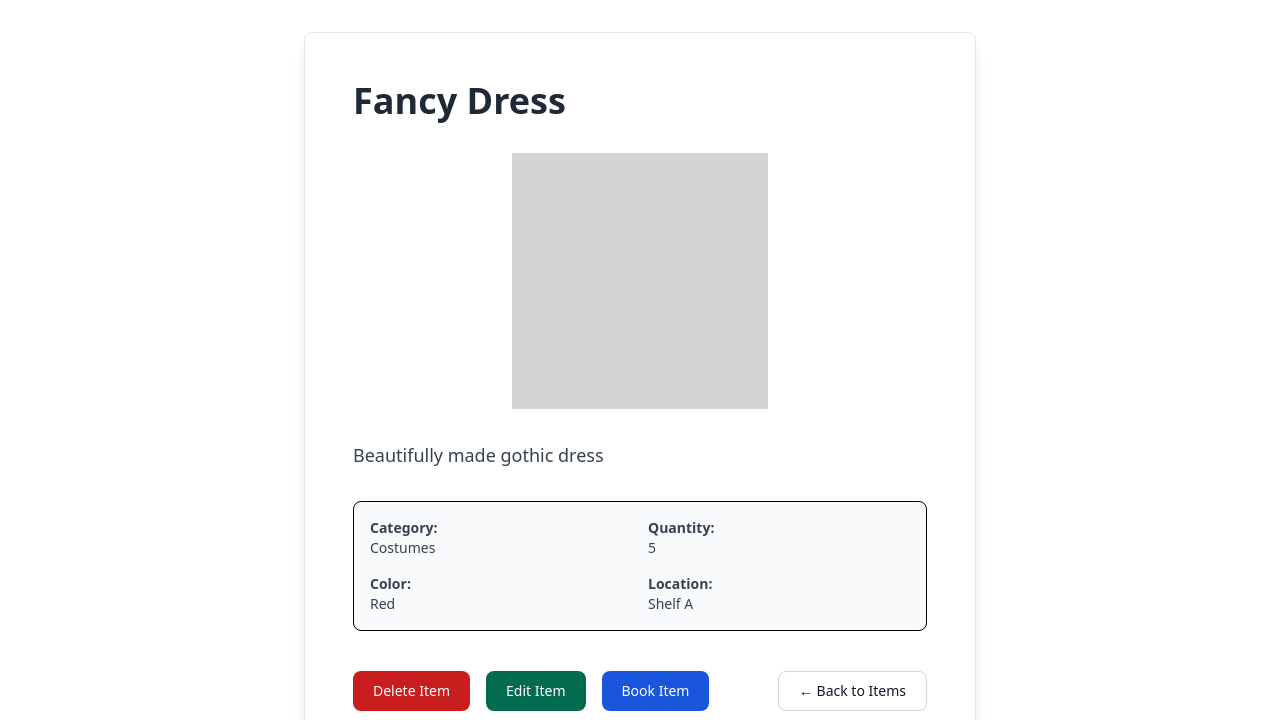
Test: ItemDetail Page › closes delete modal when cancel is clicked
Expected: the heading "Fancy Dress" is shown, left=353, top=76, right=566, bottom=125
Open modal
Step 1. Click the button "Delete Item" → (412, 691), box left=353, top=671, right=470, bottom=711
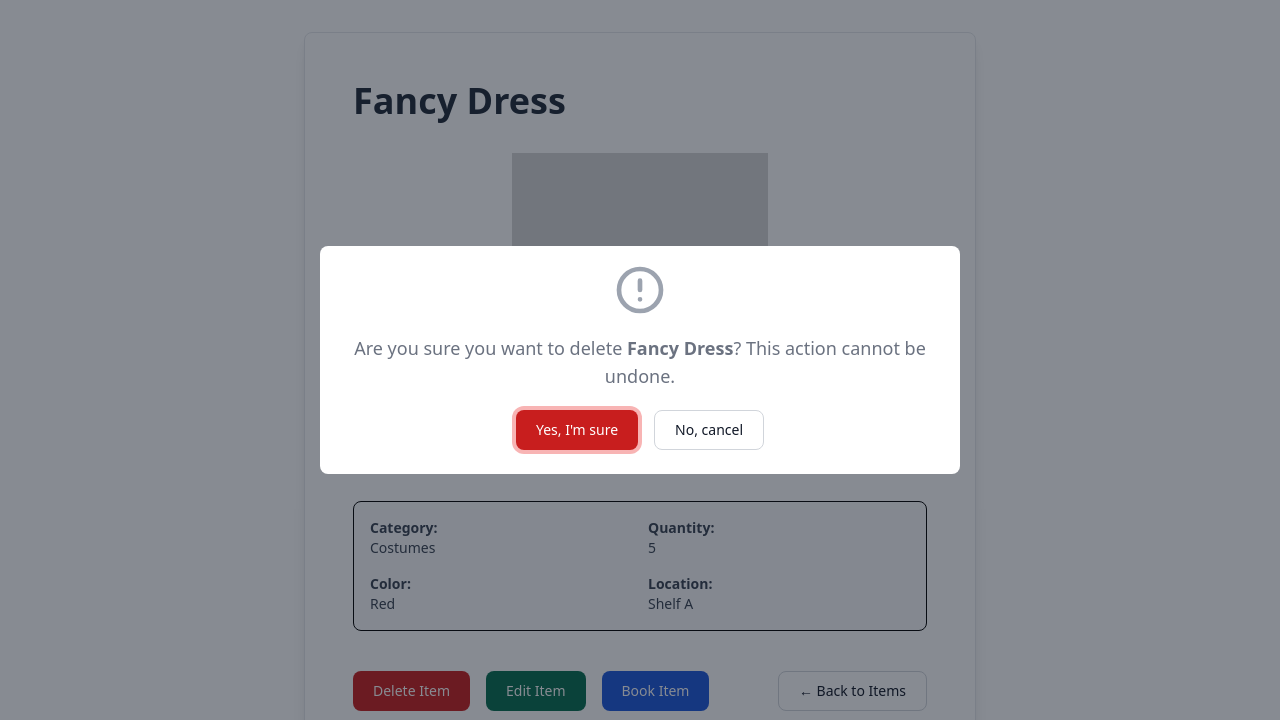
Expected: the heading "Are you sure you want to delete" is shown, left=354, top=336, right=627, bottom=360
Close modal
Step 2. Click the button "No, cancel" → (709, 430), box left=654, top=410, right=764, bottom=450
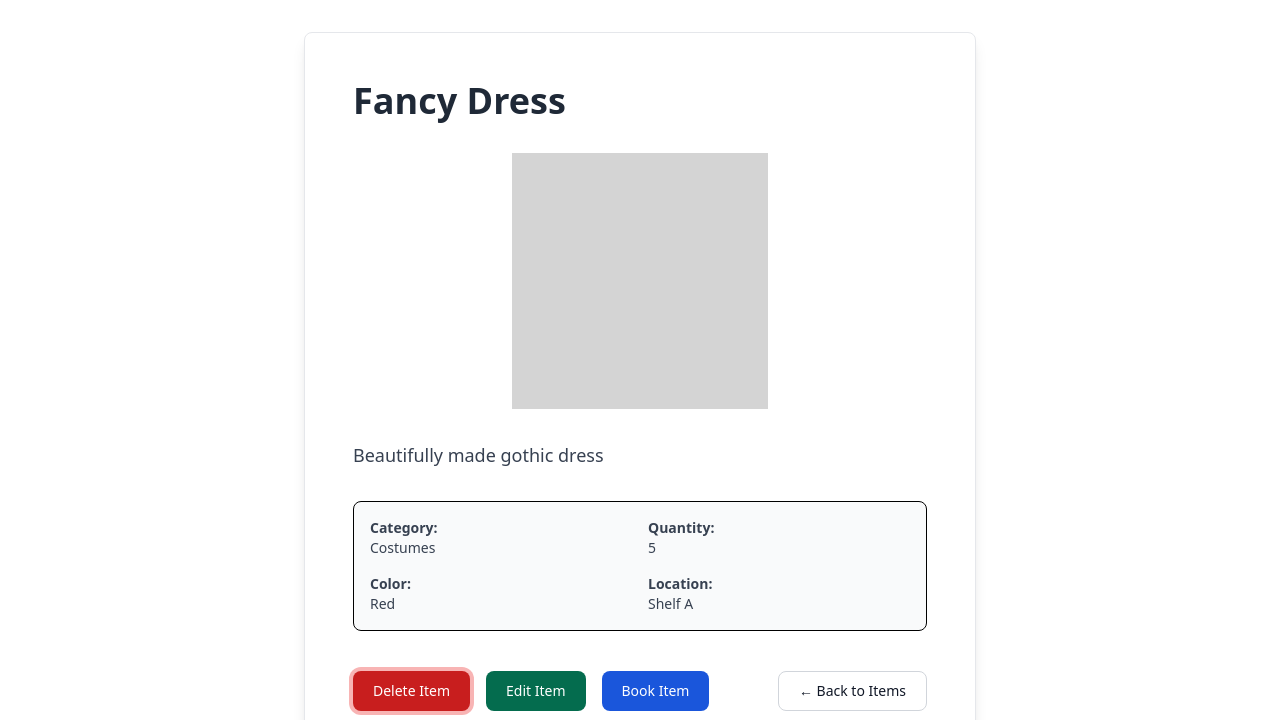
Expected: the heading "Are you sure you want to delete" is gone
